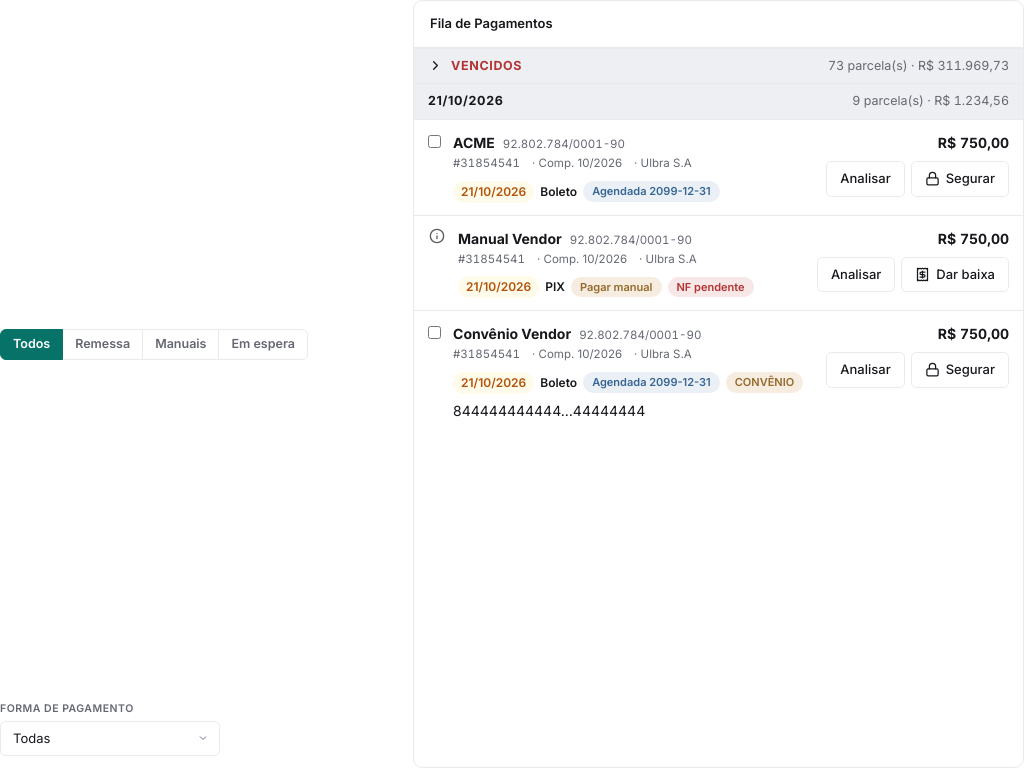
Test: PaymentQueueTab › renders a checkbox ONLY on remittance-selectable rows; selection drives the bulk bar and the dialog
Click the checkbox named "Selecionar parcela de ACME".
click(435, 142)  # box [428,135,441,148]
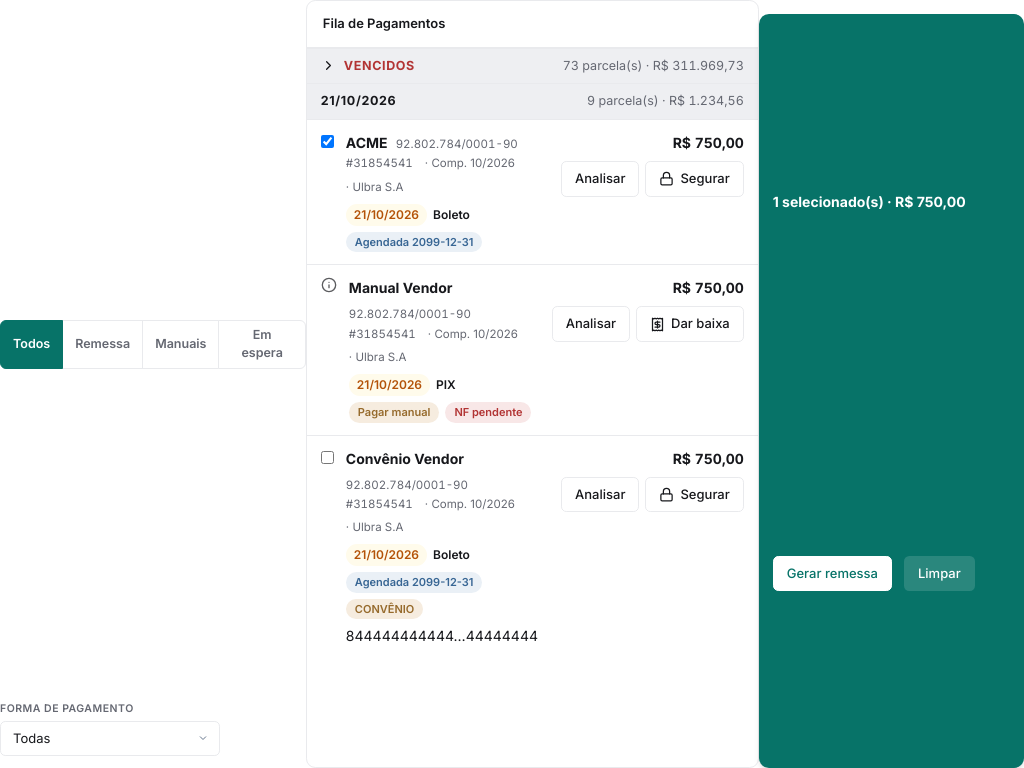
Expected: the text "1 selecionado(s) · R$ 750,00" is shown, [773,191,966,212]
Click the button "Gerar remessa".
click(832, 573)  # box [773,556,892,591]
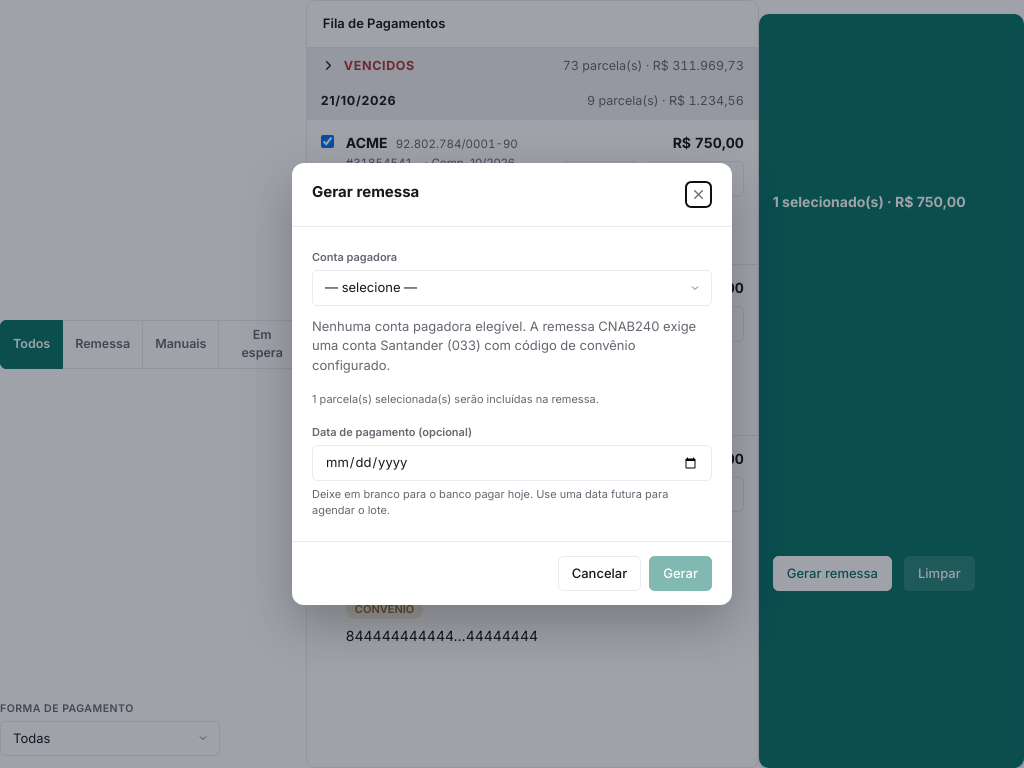
Expected: the text "1 parcela(s) selecionada(s) serão incluídas na remessa." is shown, [312,392,599,406]
